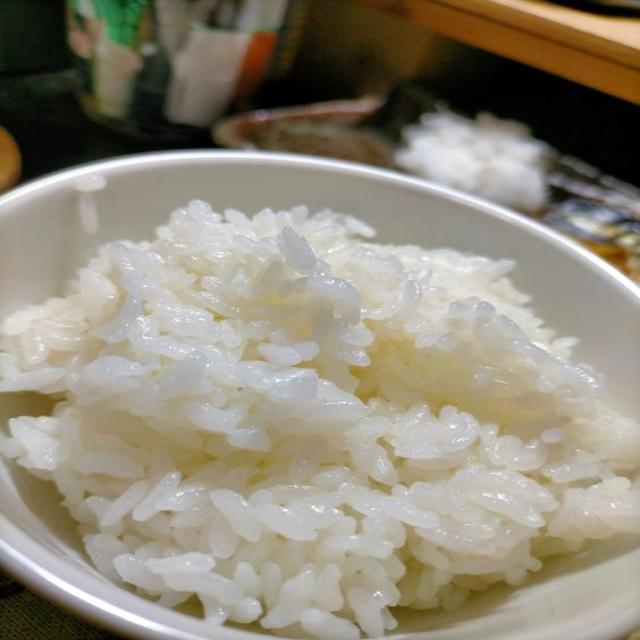nasi_putih: (23, 194, 611, 630)
